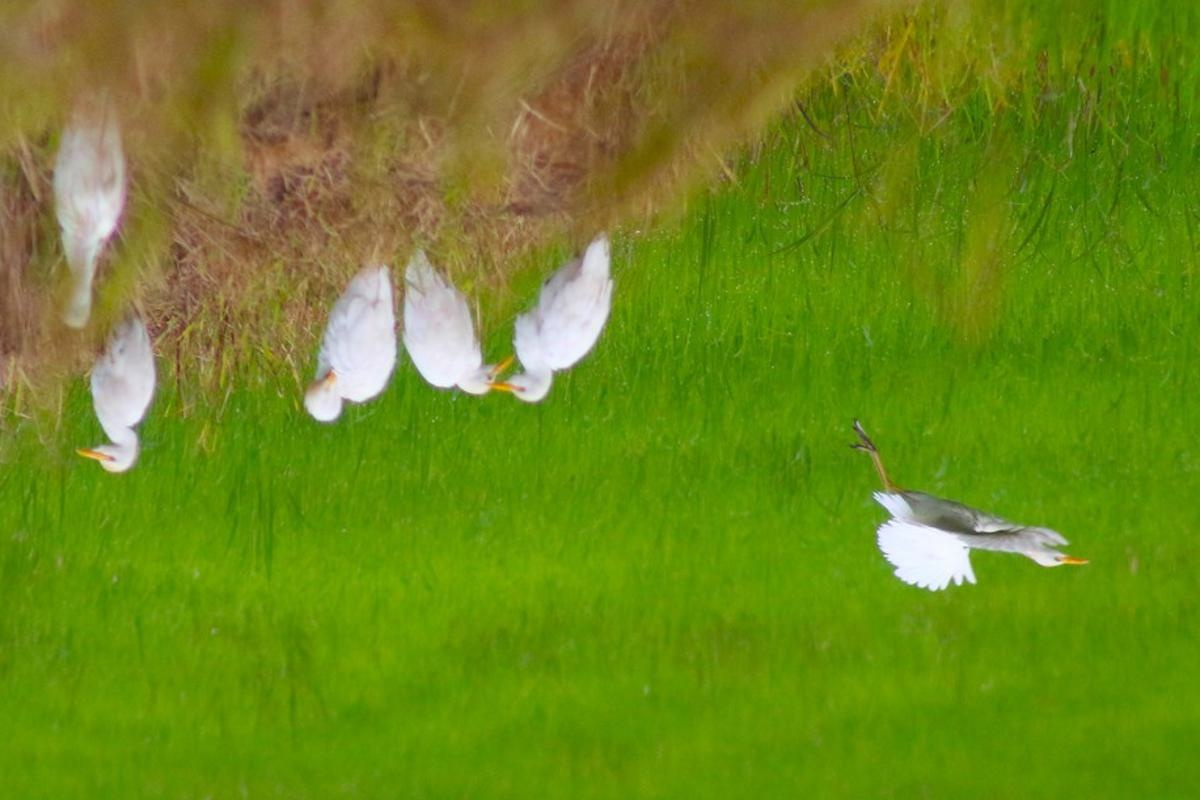egret: (824, 419, 1107, 610), (490, 243, 634, 407), (293, 243, 403, 436), (73, 304, 197, 473), (392, 255, 502, 414)
